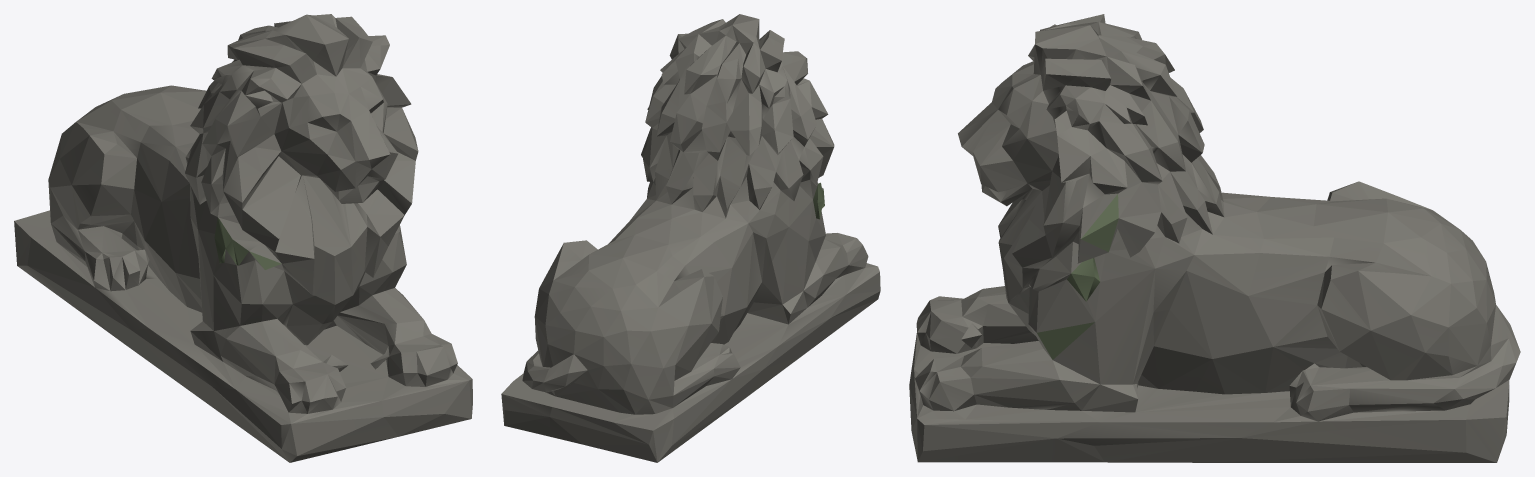
Rendered from lion-1500.glb.
3 renders of one model, left to right at view 1: azimuth 30°, elevation 25°; view 2: azimuth 150°, elevation 25°; view 3: azimuth 270°, elevation 25°, orthographic. The views are drawn at different scales.
Visible parts, largest first — view 1: Lion-1500; view 2: Lion-1500; view 3: Lion-1500.
Boxes of the visible parts, x1=… form: Lion-1500: x1=14, y1=14, x2=472, y2=462; Lion-1500: x1=501, y1=14, x2=880, y2=462; Lion-1500: x1=909, y1=14, x2=1520, y2=462.
Size of the model in its own units: 0.4265 by 0.7125 by 1.
